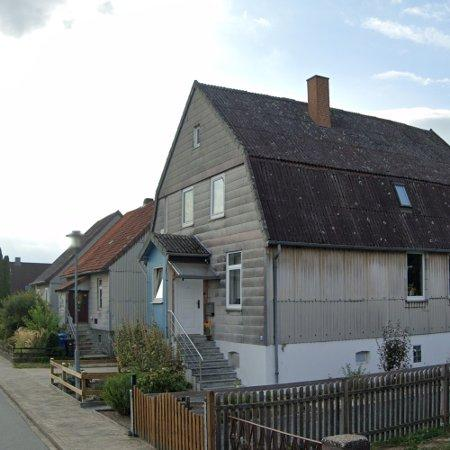stairs: (171, 312, 241, 391)
